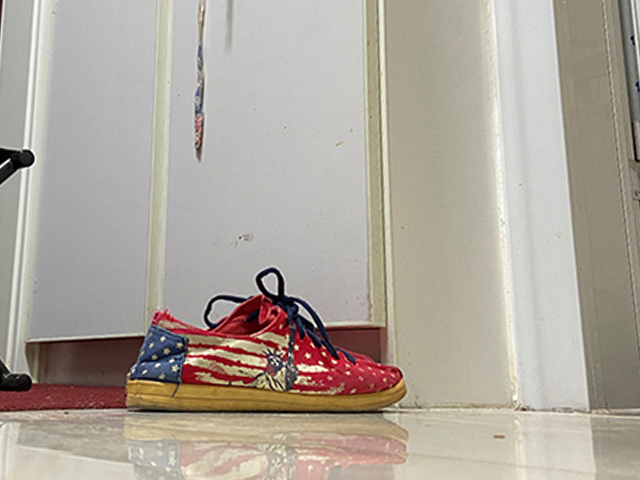cabinet: (1, 1, 517, 412)
carpet: (1, 382, 126, 411)
